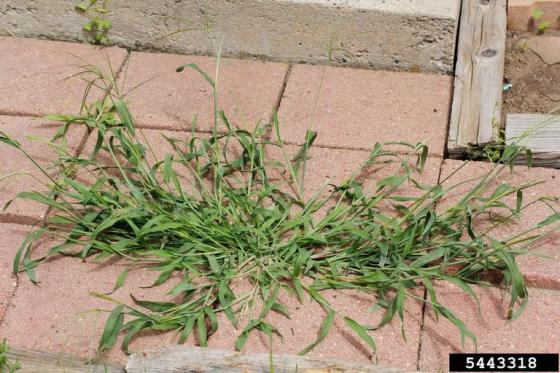crabgrass: (44, 102, 528, 337)
